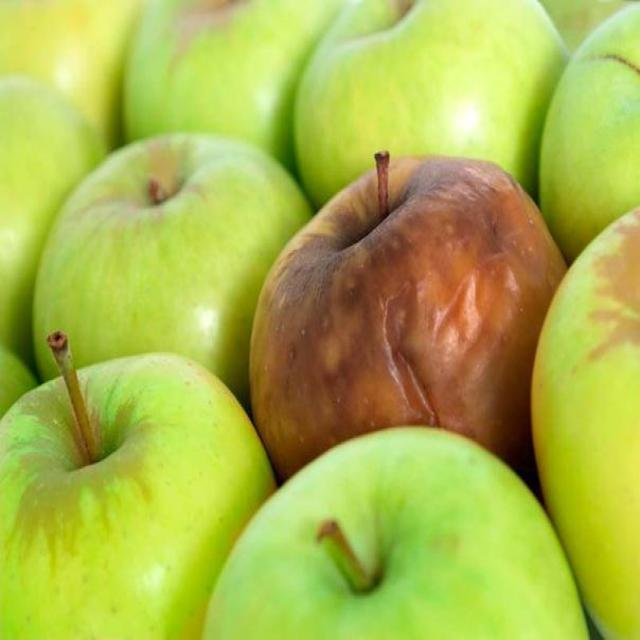Fresh Apple: (201, 421, 593, 640), (0, 361, 268, 640), (50, 134, 315, 394), (282, 5, 573, 187)
Rotten: (258, 163, 538, 447)
